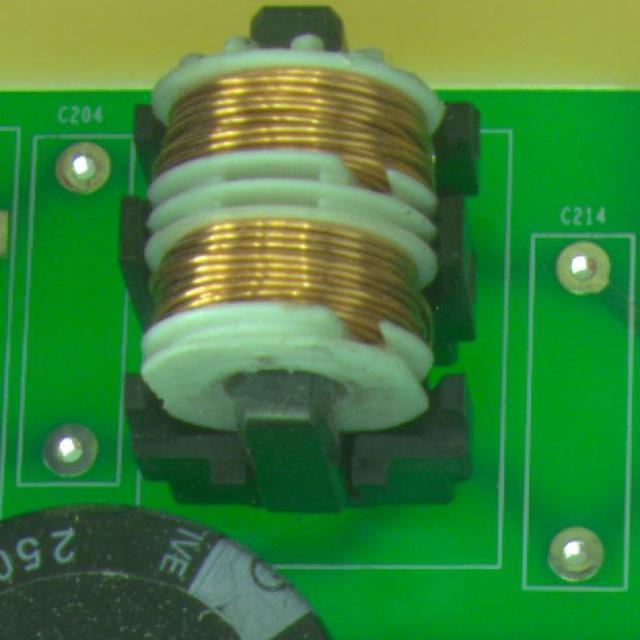Insufficient solder: (530, 511, 612, 599), (40, 406, 105, 481), (552, 234, 618, 300), (56, 130, 115, 200)
